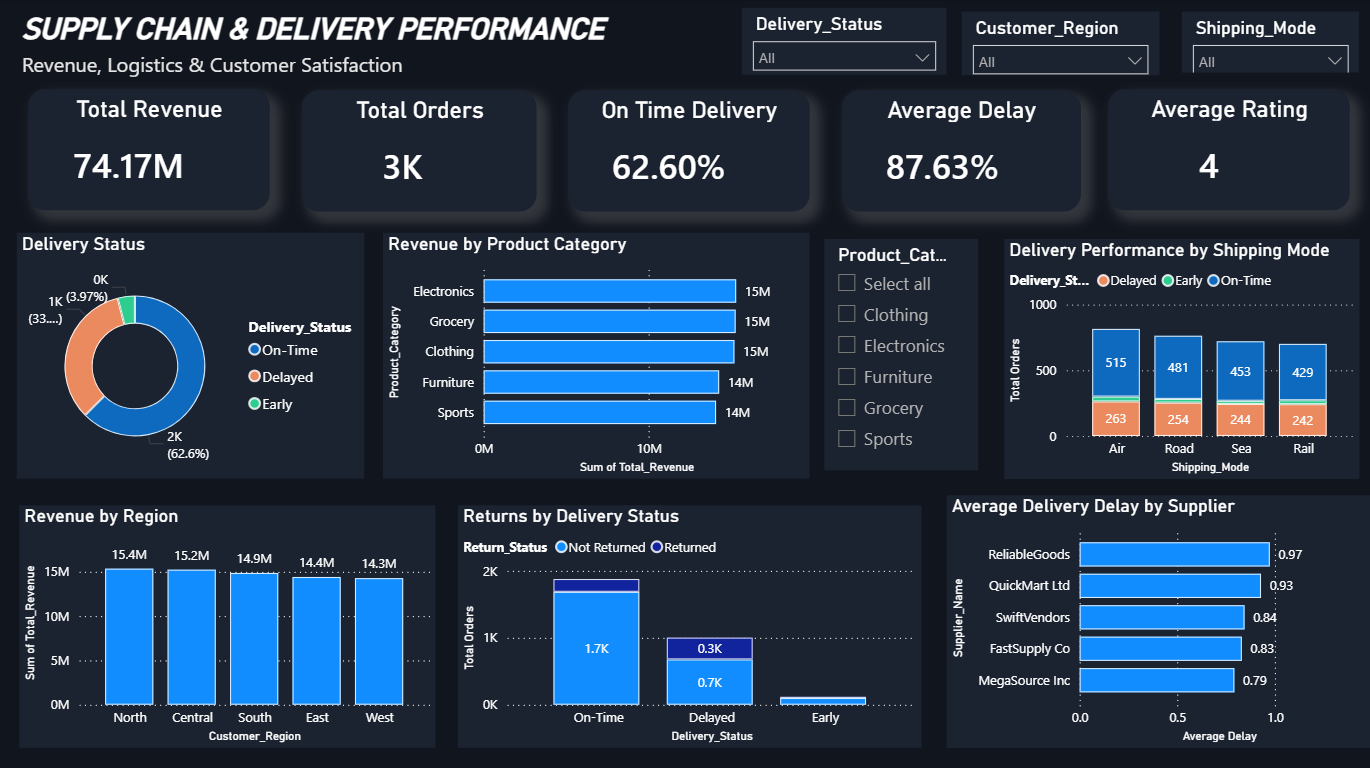

What the dashboard file says about the page in this screenshot:
{"tool":"powerbi","page":{"name":"Page 1","canvas":[1280,720],"ordinal":0},"visuals":[{"type":"cardVisual","title":"Total Revenue","fields":{"Data":["supply_chain_analysis.Total Revenue"]},"box":[27.9,83.7,224.4,112.8],"z":0},{"type":"cardVisual","title":"Total Orders","fields":{"Data":["supply_chain_analysis.Total Orders"]},"box":[282.6,84.9,218.6,112.8],"z":1000},{"type":"cardVisual","title":"On Time Delivery","fields":{"Data":["supply_chain_analysis.On-Time Delivery %"]},"box":[530.2,84.9,224.4,112.8],"z":2000},{"type":"cardVisual","title":"Average Delay","fields":{"Data":["supply_chain_analysis.Average Delay"]},"box":[784.9,84.9,222.1,112.8],"z":3000},{"type":"cardVisual","title":"Average Rating","fields":{"Data":["supply_chain_analysis.Average Rating"]},"box":[1032.6,83.7,224.4,112.8],"z":4000},{"type":"clusteredColumnChart","title":"Revenue by Region","fields":{"Category":["supply_chain_analysis.Customer_Region"],"Y":["Sum(supply_chain_analysis.Total_Revenue)"]},"box":[19.8,470.9,387.2,225.6],"z":5000},{"type":"barChart","title":"Revenue by Product Category ","fields":{"Y":["Sum(supply_chain_analysis.Total_Revenue)"],"Category":["supply_chain_analysis.Product_Category"]},"box":[358.1,217.4,396.5,229.1],"z":6000},{"type":"donutChart","title":"Delivery Status","fields":{"Category":["supply_chain_analysis.Delivery_Status"],"Y":["supply_chain_analysis.Total Orders"]},"box":[17.4,217.4,323.3,229.1],"z":7000},{"type":"columnChart","title":"Returns by Delivery Status","fields":{"Category":["supply_chain_analysis.Delivery_Status"],"Series":["supply_chain_analysis.Return_Status"],"Y":["supply_chain_analysis.Total Orders"]},"box":[427.9,470.9,431.4,225.6],"z":8000},{"type":"clusteredBarChart","title":"Average Delivery Delay by Supplier","fields":{"Category":["supply_chain_analysis.Supplier_Name"],"Y":["supply_chain_analysis.Average Delay"]},"box":[882.6,461.6,397.7,234.9],"z":9000},{"type":"columnChart","title":"Delivery Performance by Shipping Mode","fields":{"Category":["supply_chain_analysis.Shipping_Mode"],"Series":["supply_chain_analysis.Delivery_Status"],"Y":["supply_chain_analysis.Total Orders"]},"box":[936,223.3,330.2,223.3],"z":10000},{"type":"slicer","fields":{"Values":["supply_chain_analysis.Customer_Region"]},"box":[896.5,11.6,183.7,59.3],"z":11000},{"type":"slicer","fields":{"Values":["supply_chain_analysis.Product_Category"]},"box":[768.6,223.3,143,215.1],"z":12000},{"type":"slicer","fields":{"Values":["supply_chain_analysis.Shipping_Mode"]},"box":[1101.2,11.6,165.1,57],"z":13000},{"type":"slicer","fields":{"Values":["supply_chain_analysis.Delivery_Status"]},"box":[691.9,8.1,190.7,62.8],"z":14000},{"type":"textbox","title":"SUPPLY CHAIN & DELIVERY PERFORMANCE","box":[17.4,11.6,657,62.8],"z":15000}]}

Visuals, with their boxes in screenshot pixels (x1, y1, x2, y2), scaled from the page's 1280x720 canvas onto the 1370x768 screenshot:
"Total Revenue" cardVisual: {"x1": 30, "y1": 89, "x2": 270, "y2": 210}
"Total Orders" cardVisual: {"x1": 302, "y1": 91, "x2": 536, "y2": 211}
"On Time Delivery" cardVisual: {"x1": 567, "y1": 91, "x2": 808, "y2": 211}
"Average Delay" cardVisual: {"x1": 840, "y1": 91, "x2": 1078, "y2": 211}
"Average Rating" cardVisual: {"x1": 1105, "y1": 89, "x2": 1345, "y2": 210}
"Revenue by Region" clusteredColumnChart: {"x1": 21, "y1": 502, "x2": 436, "y2": 743}
"Revenue by Product Category " barChart: {"x1": 383, "y1": 232, "x2": 808, "y2": 476}
"Delivery Status" donutChart: {"x1": 19, "y1": 232, "x2": 365, "y2": 476}
"Returns by Delivery Status" columnChart: {"x1": 458, "y1": 502, "x2": 920, "y2": 743}
"Average Delivery Delay by Supplier" clusteredBarChart: {"x1": 945, "y1": 492, "x2": 1369, "y2": 743}
"Delivery Performance by Shipping Mode" columnChart: {"x1": 1002, "y1": 238, "x2": 1355, "y2": 476}
slicer - supply_chain_analysis.Customer_Region: {"x1": 960, "y1": 12, "x2": 1156, "y2": 76}
slicer - supply_chain_analysis.Product_Category: {"x1": 823, "y1": 238, "x2": 976, "y2": 468}
slicer - supply_chain_analysis.Shipping_Mode: {"x1": 1179, "y1": 12, "x2": 1355, "y2": 73}
slicer - supply_chain_analysis.Delivery_Status: {"x1": 741, "y1": 9, "x2": 945, "y2": 76}
"SUPPLY CHAIN & DELIVERY PERFORMANCE" textbox: {"x1": 19, "y1": 12, "x2": 722, "y2": 79}
